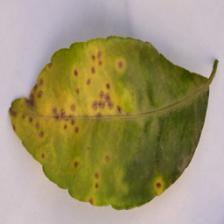canker: (13, 65, 102, 172)
